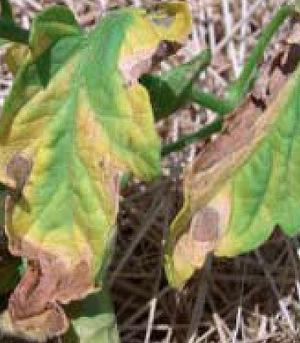Tomato Early blight leaf: (2, 8, 168, 310), (173, 67, 298, 298)
